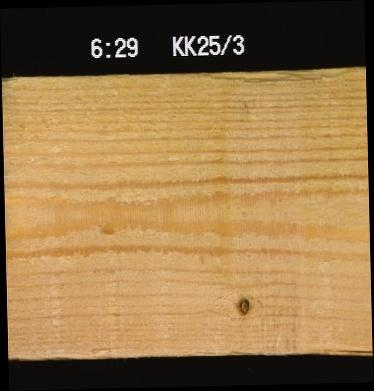dry_knot: (236, 296, 251, 316)
wave: (200, 68, 355, 84)
